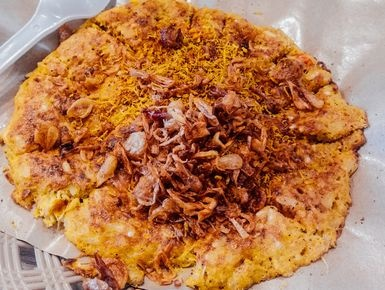kerak_telor: (4, 3, 363, 290)
